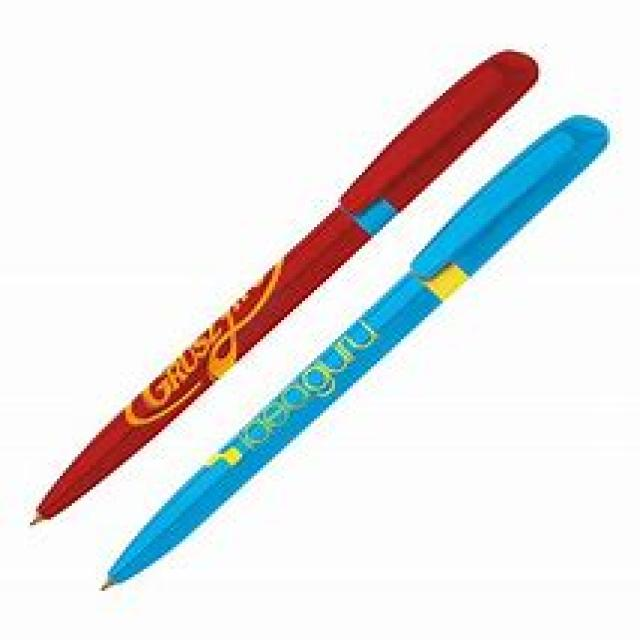pen: (33, 47, 607, 591)
